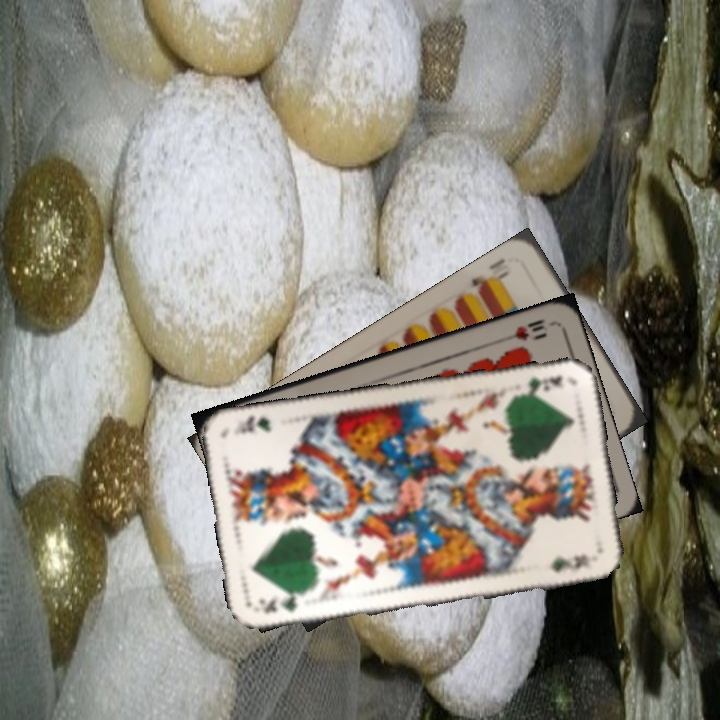E10: (467, 266, 513, 297)
GK: (514, 371, 565, 399), (256, 592, 301, 617)
H10: (498, 315, 548, 345)
